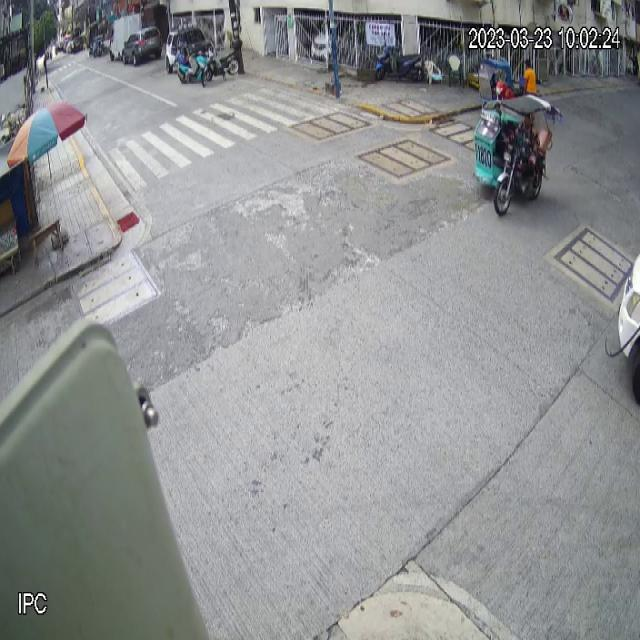Tricycle: (472, 91, 565, 216)
